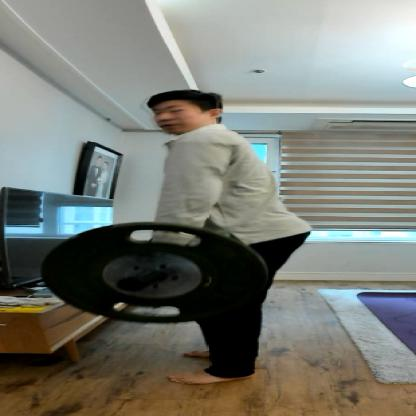Barbell: (26, 218, 283, 332)
